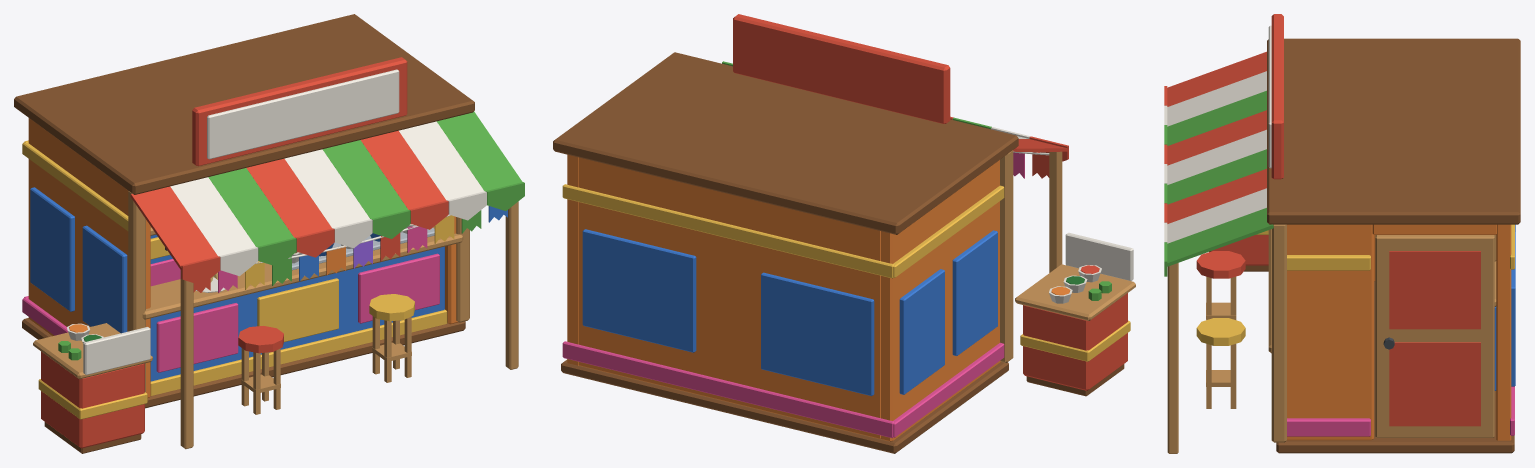
The model's file is low-poly-taco-stand.glb.
3 renders of one model, left to right at view 1: azimuth 30°, elevation 25°; view 2: azimuth 150°, elevation 25°; view 3: azimuth 270°, elevation 25°, orthographic. The views are drawn at different scales.
Visible parts, largest first — view 1: Roof, Sign_Blank, Wall_Left, SalsaBar_Body, FrontCounter, Sign_Frame, Back_Panel_2, Back_Panel_1, FrontPanel_2, FrontPanel_1, FrontCounter_Kick, FrontCounter_Top (+36 smaller); view 2: Roof, Wall_Back, Sign_Frame, Wall_Left, BackWall_Panel_2, BackWall_Panel_1, SalsaBar_Body, Band_Back_Low, Platform, Band_Back_Top, Back_Panel_2, Back_Panel_1 (+9 smaller); view 3: Roof, Wall_Right_Front, Door, Door_Panel_Low, Door_Panel, Platform, CornerTrim_R, Wall_Right_Back, Awning_Stripe_9, AwningPost_R, Sign_Frame, Awning_Stripe_6 (+20 smaller).
Boxes of the visible parts, x1,y1,x2,y2 form: Roof: (14, 14, 474, 194); Sign_Blank: (207, 69, 399, 159); Wall_Left: (28, 118, 150, 397); SalsaBar_Body: (41, 351, 144, 448); FrontCounter: (150, 246, 444, 381); Sign_Frame: (192, 57, 407, 166); Back_Panel_2: (30, 187, 74, 311); Back_Panel_1: (82, 225, 127, 333); FrontPanel_2: (257, 278, 338, 342); FrontPanel_1: (156, 303, 238, 372); FrontCounter_Kick: (150, 309, 447, 395); FrontCounter_Top: (142, 226, 463, 319); Roof: (553, 52, 1018, 234); Wall_Back: (578, 157, 880, 438); Sign_Frame: (733, 14, 950, 123); Wall_Left: (881, 160, 1000, 441); BackWall_Panel_2: (582, 229, 696, 352); BackWall_Panel_1: (761, 272, 874, 396); SalsaBar_Body: (1023, 293, 1127, 390); Band_Back_Low: (562, 341, 893, 438); Platform: (561, 359, 1008, 453); Band_Back_Top: (562, 184, 893, 278); Back_Panel_2: (899, 269, 944, 394); Back_Panel_1: (952, 230, 997, 355); Roof: (1267, 38, 1520, 224); Wall_Right_Front: (1287, 224, 1373, 440); Door: (1375, 235, 1494, 437); Door_Panel_Low: (1389, 342, 1480, 426); Door_Panel: (1389, 251, 1480, 329); Platform: (1276, 281, 1514, 453); CornerTrim_R: (1271, 224, 1286, 442); Wall_Right_Back: (1496, 224, 1511, 440); Awning_Stripe_9: (1165, 208, 1273, 266); AwningPost_R: (1167, 263, 1178, 453); Sign_Frame: (1271, 14, 1283, 179); Awning_Stripe_6: (1167, 149, 1266, 204).
Bounding box in the file's own units: 17 × 10.9 × 11.66.
